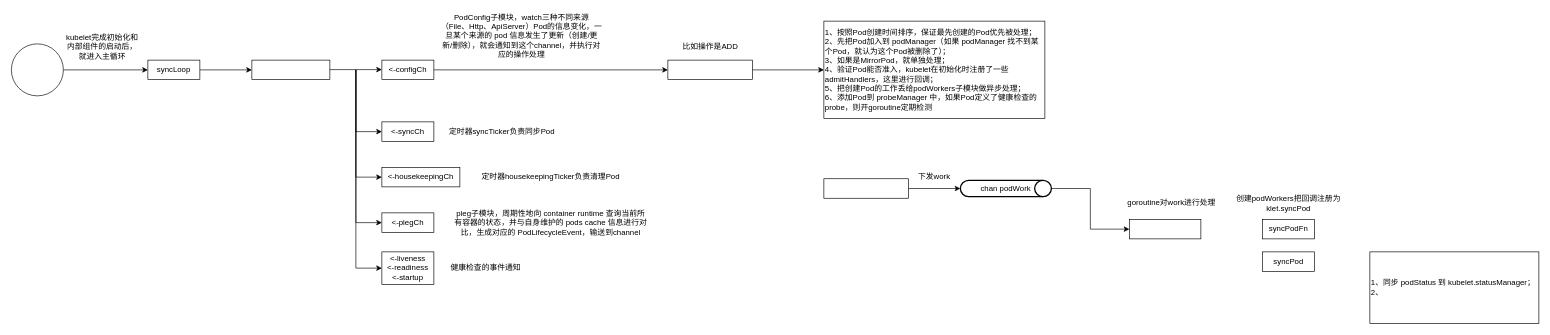
Some shapes in this 1550 by 335 pixel diagram are drawn without their labels. The shapes that lost their labels are listed below. From the top down, each one's centre as x and y in pixels, then its label:
the point at 37,69: kubelet
the point at 290,69: syncLoopIteration
the point at 709,69: HandlePodAdditions
the point at 865,188: podWorkers
the point at 1165,229: managePodLoop
